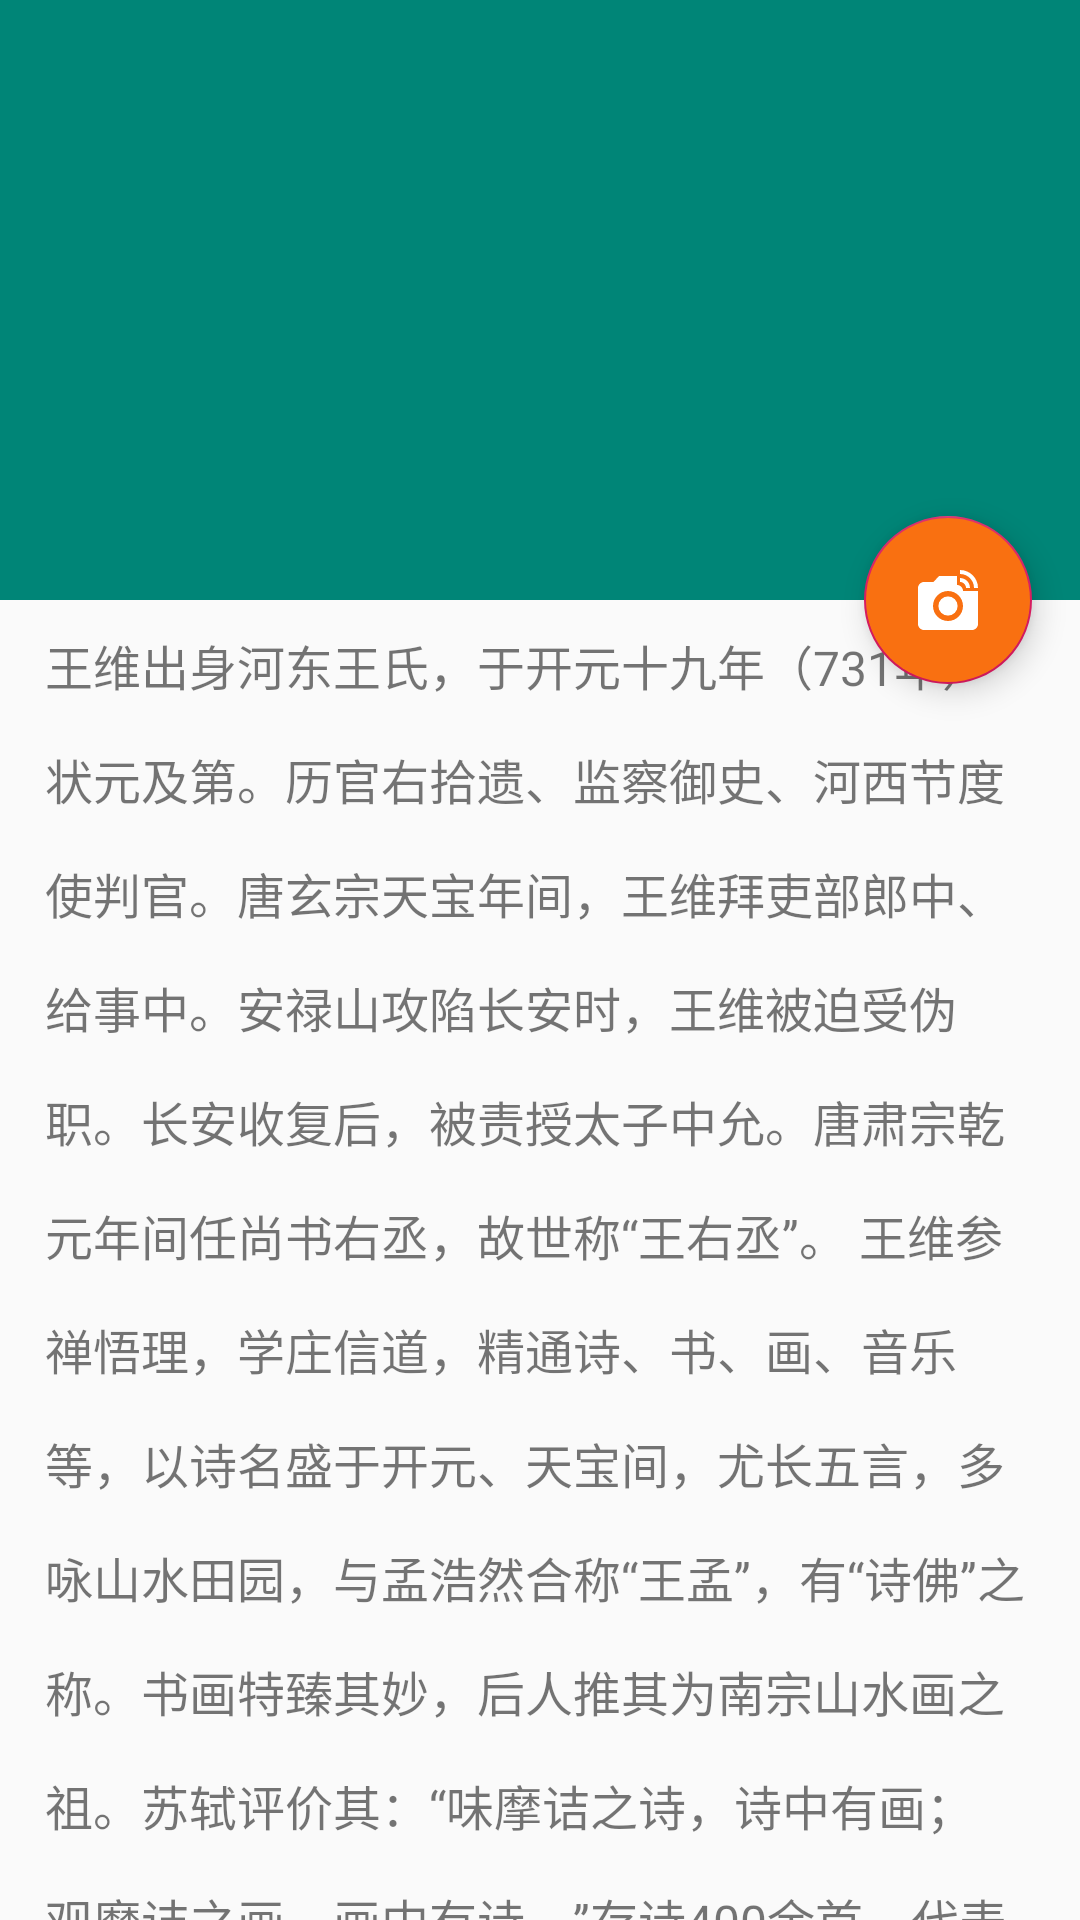

Icon click points for this 1080w x 1920h phone screenshot, format (x=x, y=y):
linked camera: (x=948, y=600)
